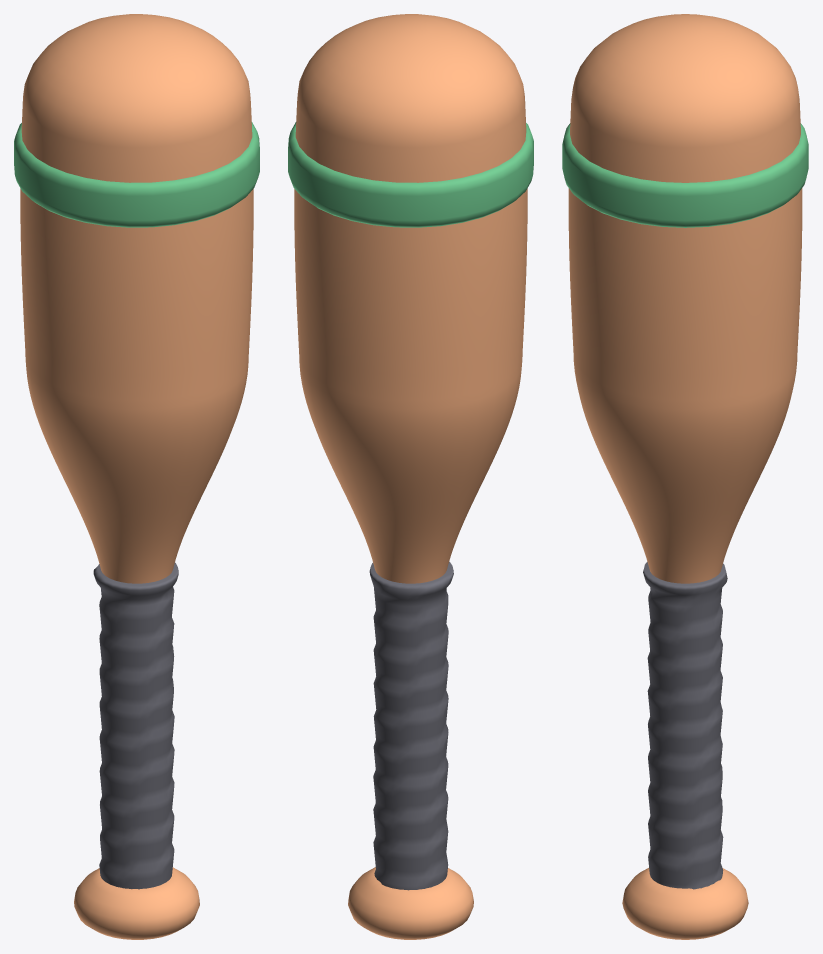
File: StruggleBat.glb
3 views of the same model, side by side, from view 1: azimuth 30°, elevation 25°; view 2: azimuth 150°, elevation 25°; view 3: azimuth 270°, elevation 25° (orthographic).
Parts seen in each view (by area): view 1: Foam, Grip, Band; view 2: Foam, Grip, Band; view 3: Foam, Grip, Band.
Part boxes in pixels (left/top/right/bottom): Foam: left=20, top=14, right=253, bottom=939; Grip: left=93, top=562, right=178, bottom=889; Band: left=14, top=122, right=259, bottom=227; Foam: left=294, top=14, right=527, bottom=939; Grip: left=369, top=561, right=453, bottom=890; Band: left=288, top=122, right=533, bottom=227; Foam: left=568, top=14, right=802, bottom=939; Grip: left=643, top=562, right=727, bottom=889; Band: left=562, top=123, right=808, bottom=227.
Size of the model in its own units: 1.1 by 4.4 by 1.1.
